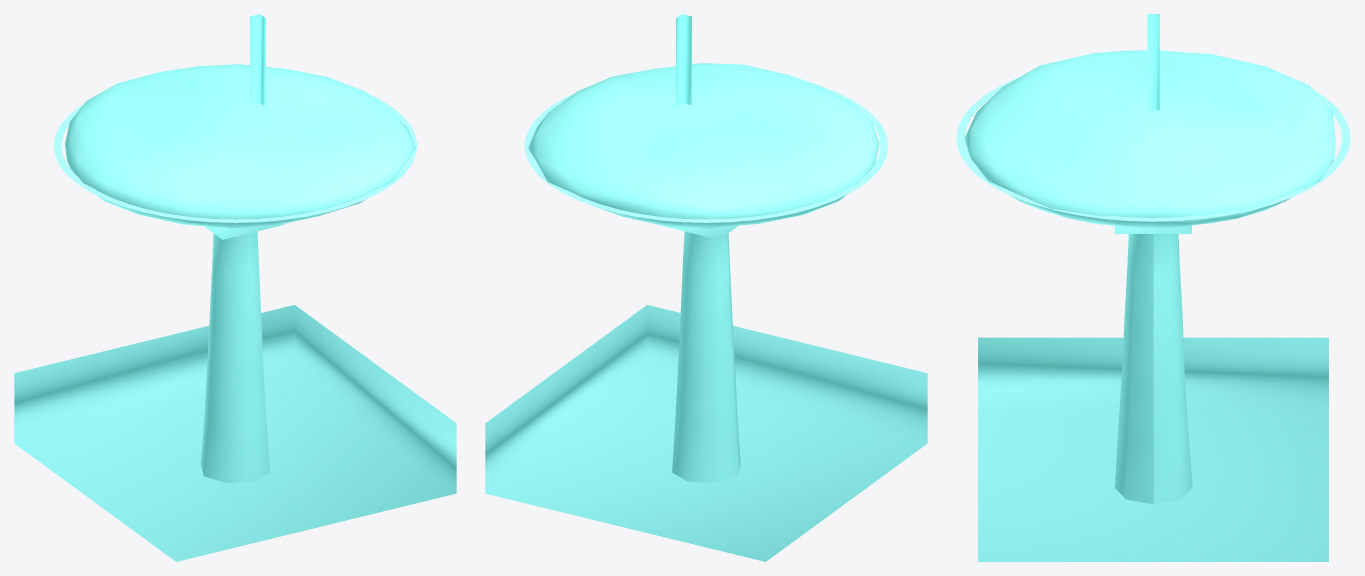
File: facility_dish.glb
The picture shows the model from 3 angles, left to right: view 1: azimuth 30°, elevation 25°; view 2: azimuth 150°, elevation 25°; view 3: azimuth 270°, elevation 25°; orthographic projection. The views are drawn at different scales.
Parts seen in each view (by area): view 1: facility_dish; view 2: facility_dish; view 3: facility_dish.
Part boxes in pixels (x1,y1,x2,y2): facility_dish: (14, 14, 456, 561); facility_dish: (485, 14, 927, 561); facility_dish: (956, 14, 1350, 561).
Size of the model in its own units: 5.62 by 7.6 by 5.62.
